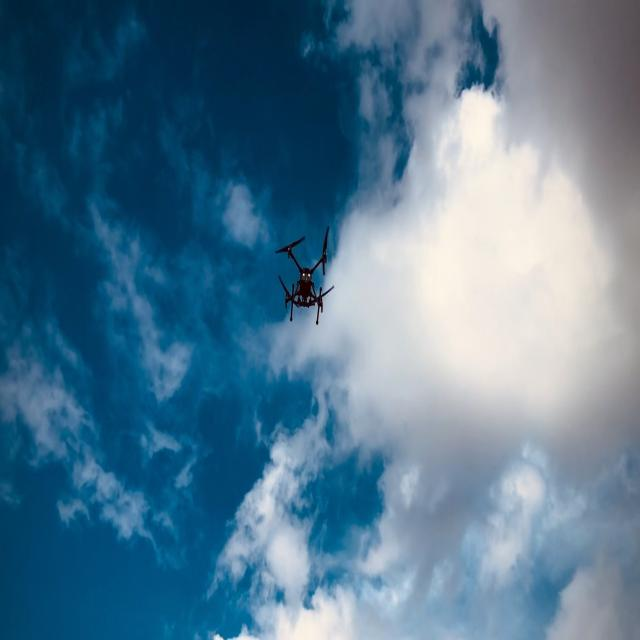drone: (275, 225, 334, 325)
